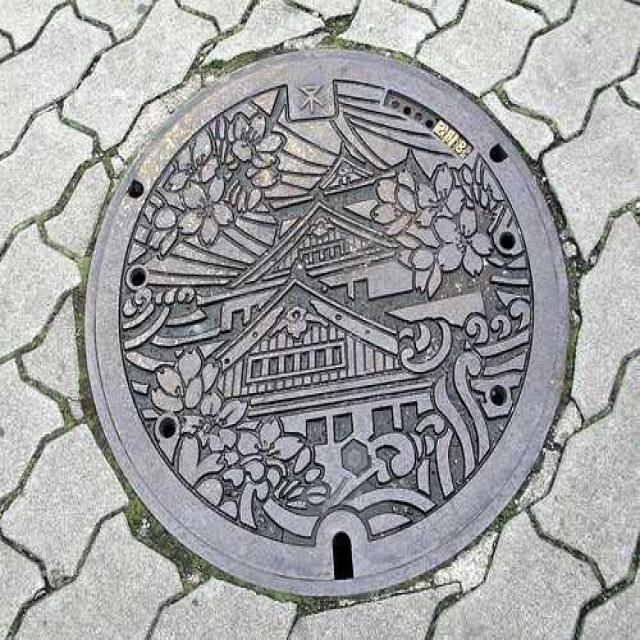manhole: (82, 52, 573, 604)
